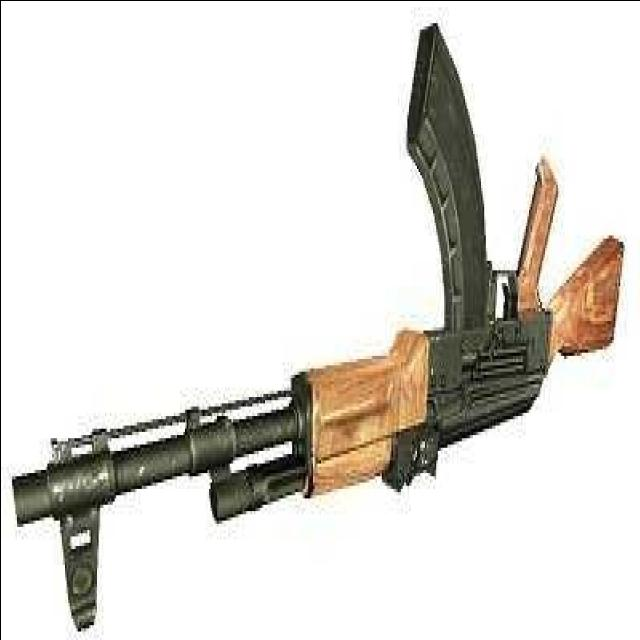heavyweapon: (6, 14, 630, 588)
